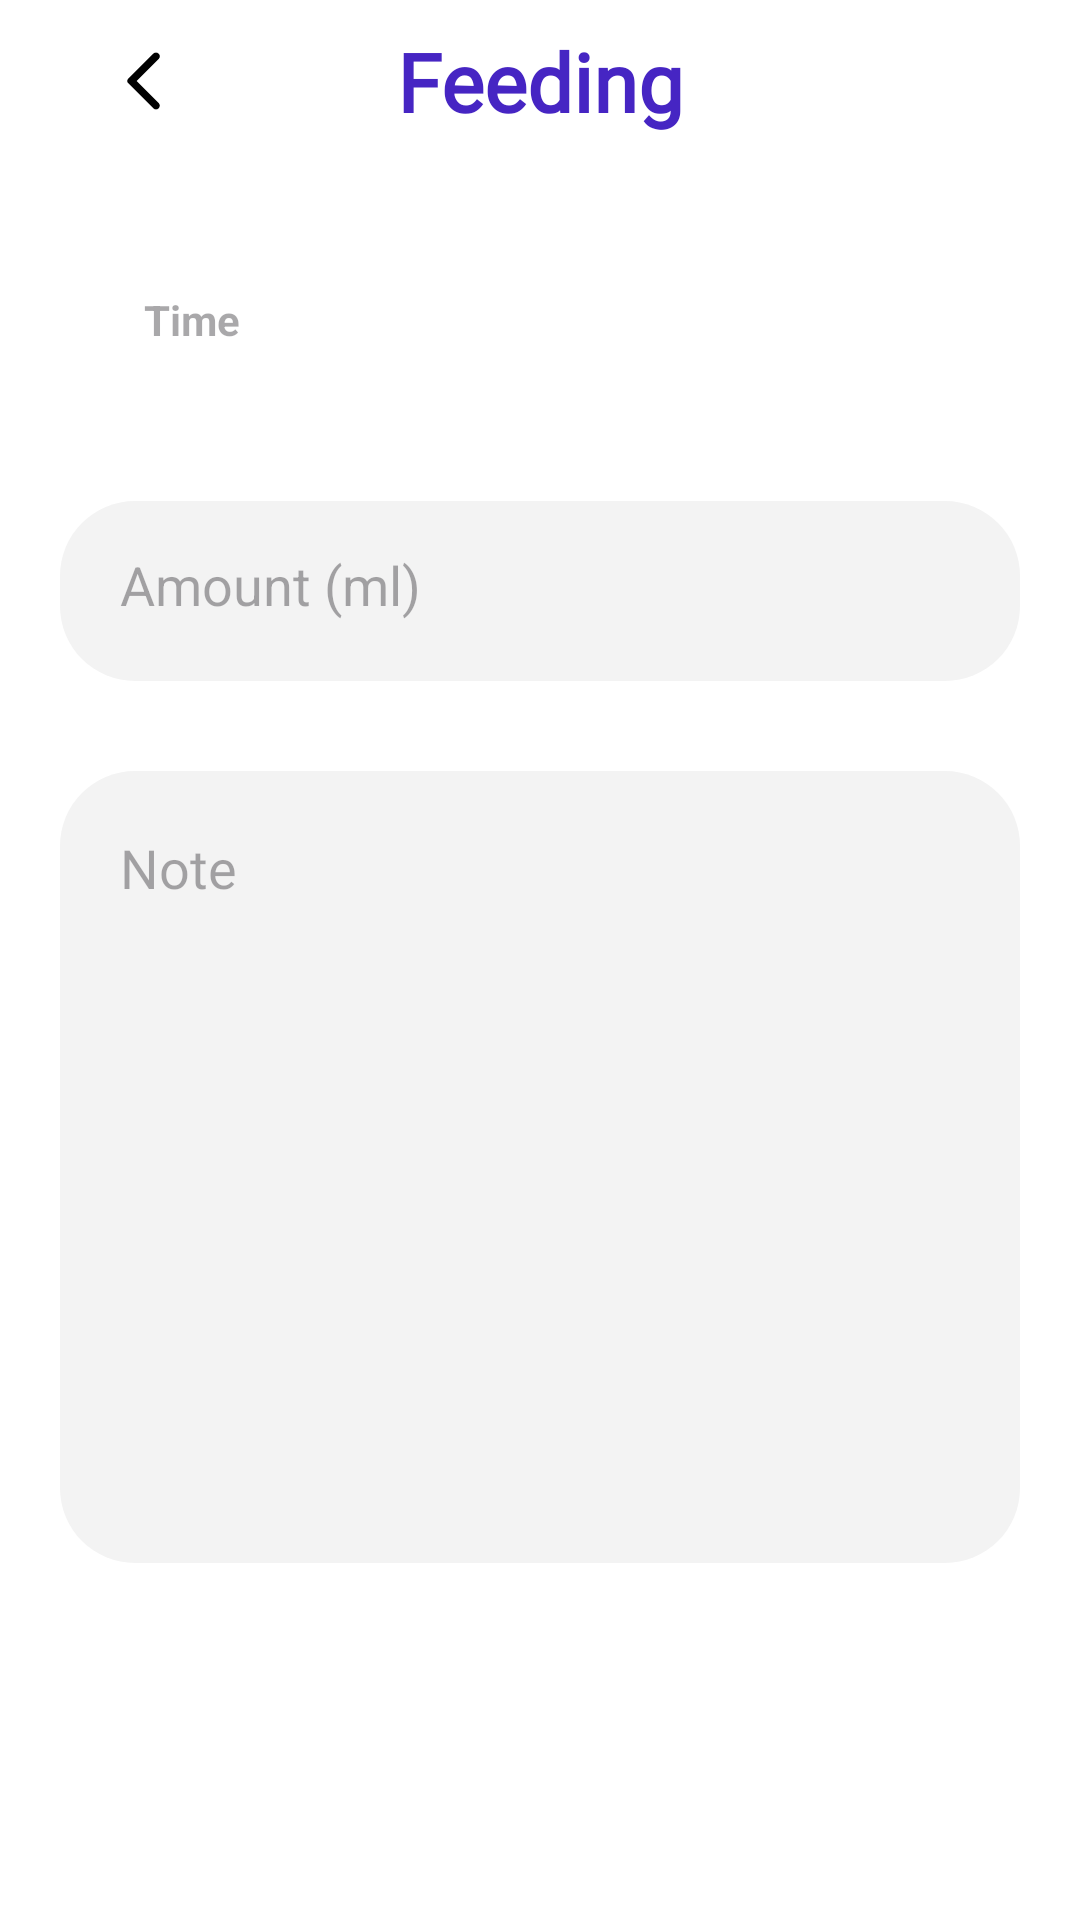

Screen size 1080 x 1920. Icon name, then its box in pixels as (x1, y1, x2, y2):
back: (127, 52, 160, 110)
